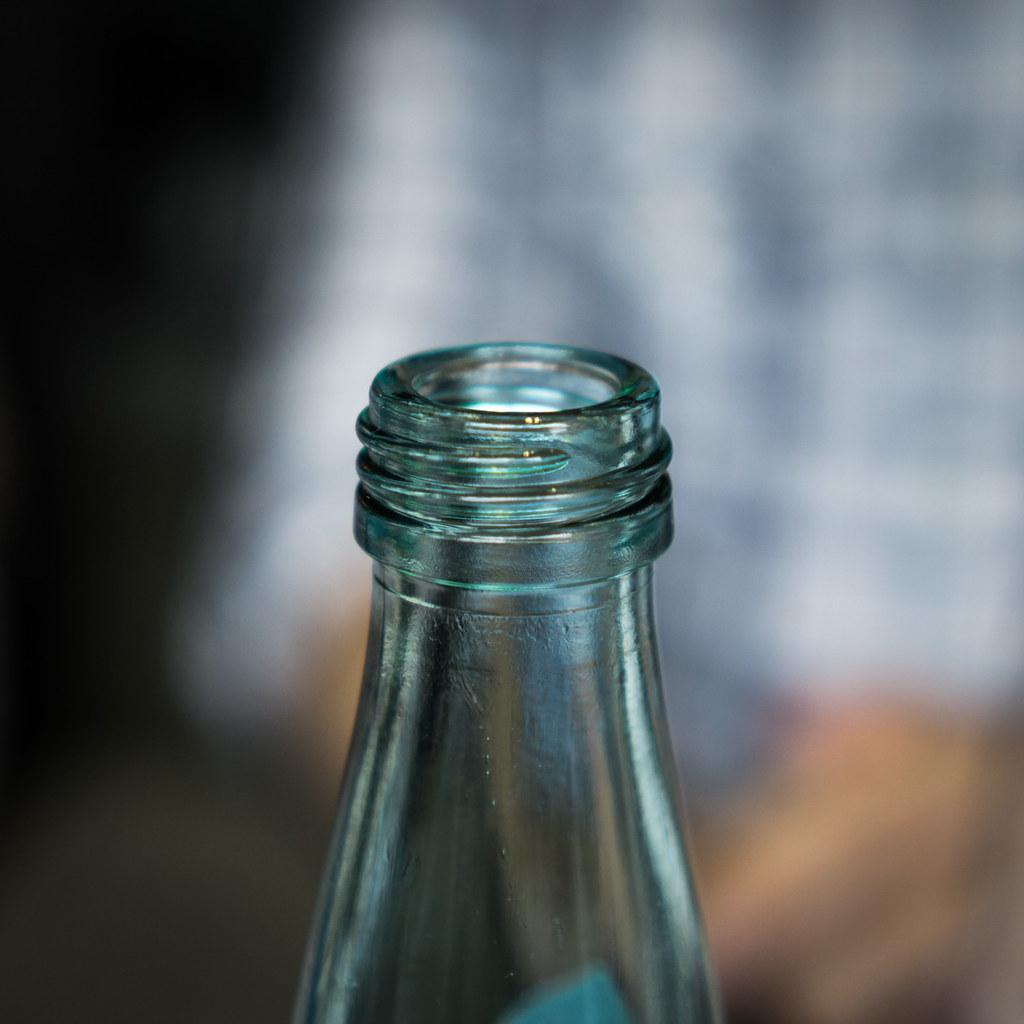bottle: (291, 340, 727, 1023)
